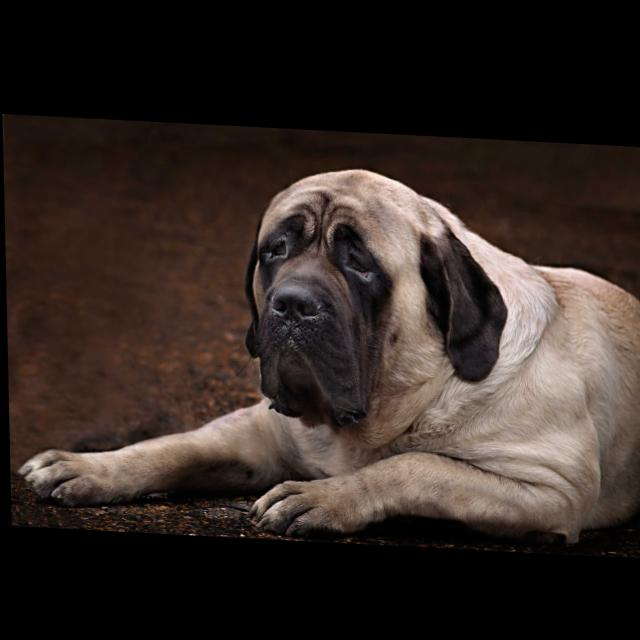mastiff: (11, 150, 640, 550)
